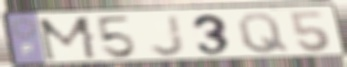3: (190, 12, 238, 57)
5: (93, 15, 140, 60), (287, 9, 333, 54)
J: (148, 14, 188, 58)
M: (35, 15, 101, 63)
Q: (235, 11, 291, 55)
